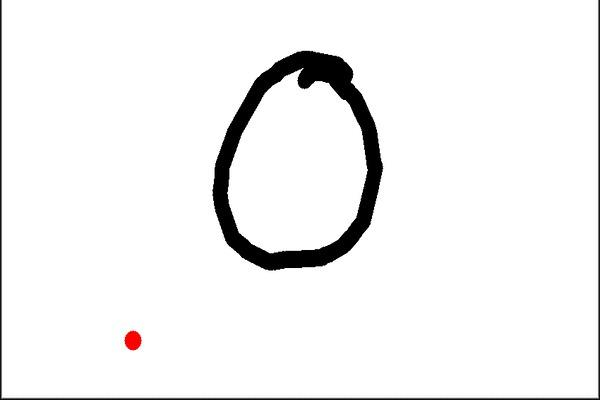O: (183, 33, 386, 279)
